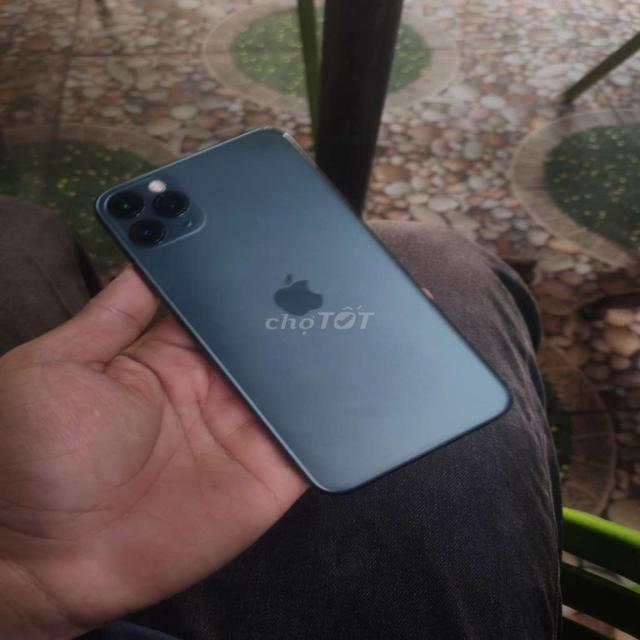scratch: (275, 125, 318, 170)
